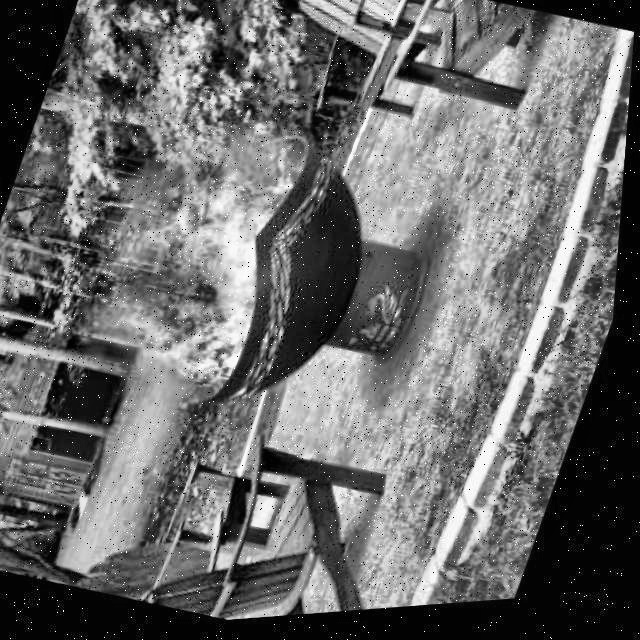Fire: (87, 142, 322, 405), (156, 105, 309, 208)
